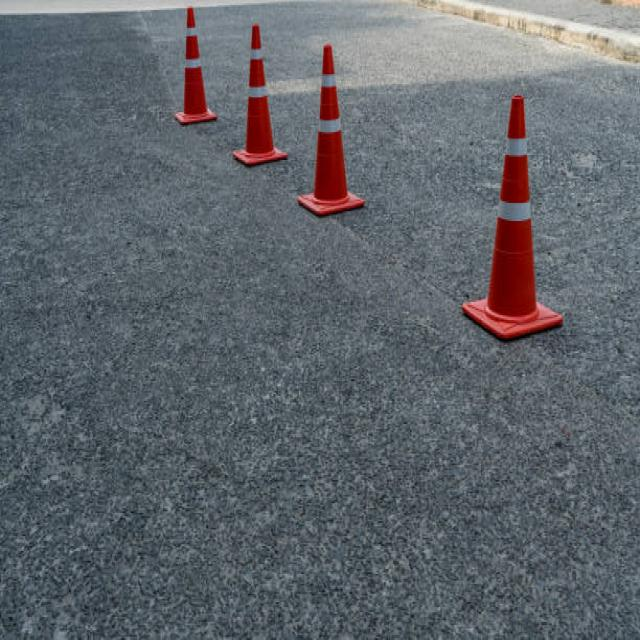Traffic Cone: (452, 79, 573, 359), (287, 33, 372, 227), (226, 13, 292, 176), (161, 0, 225, 137)
